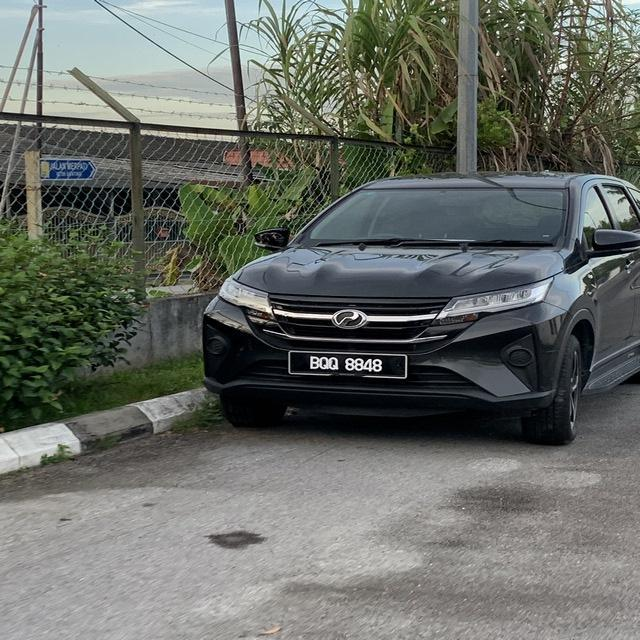License_Plate: (280, 345, 419, 388)
car: (198, 163, 640, 456)
